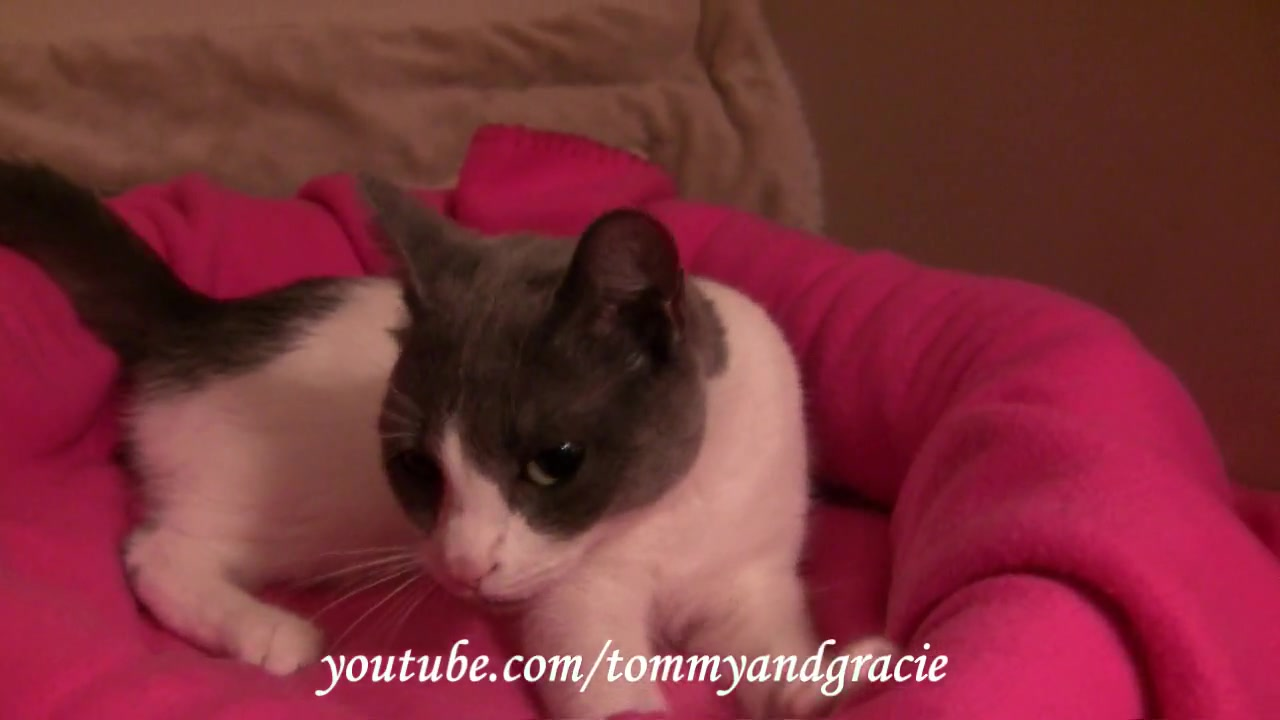cat: (1, 155, 899, 715)
